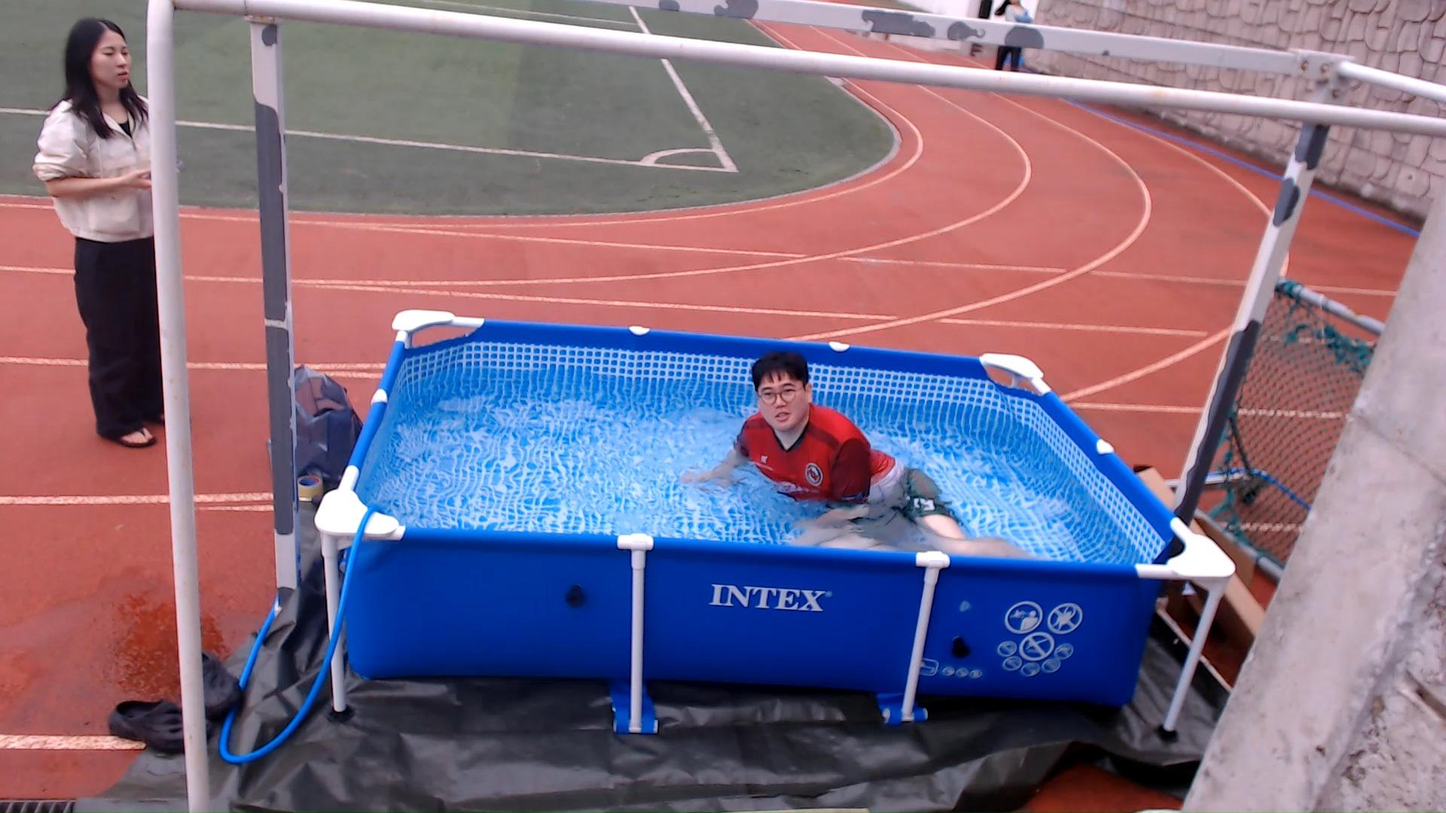Swimming: (640, 312, 1051, 570)
